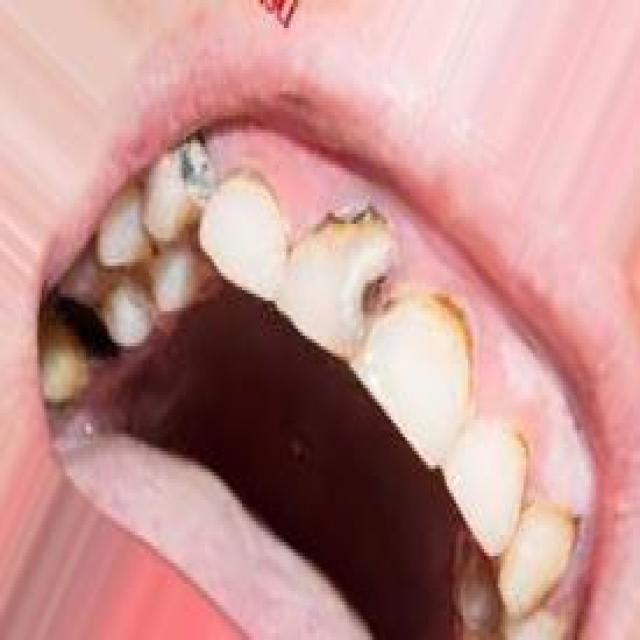caries: (290, 192, 388, 369), (146, 129, 216, 251)
